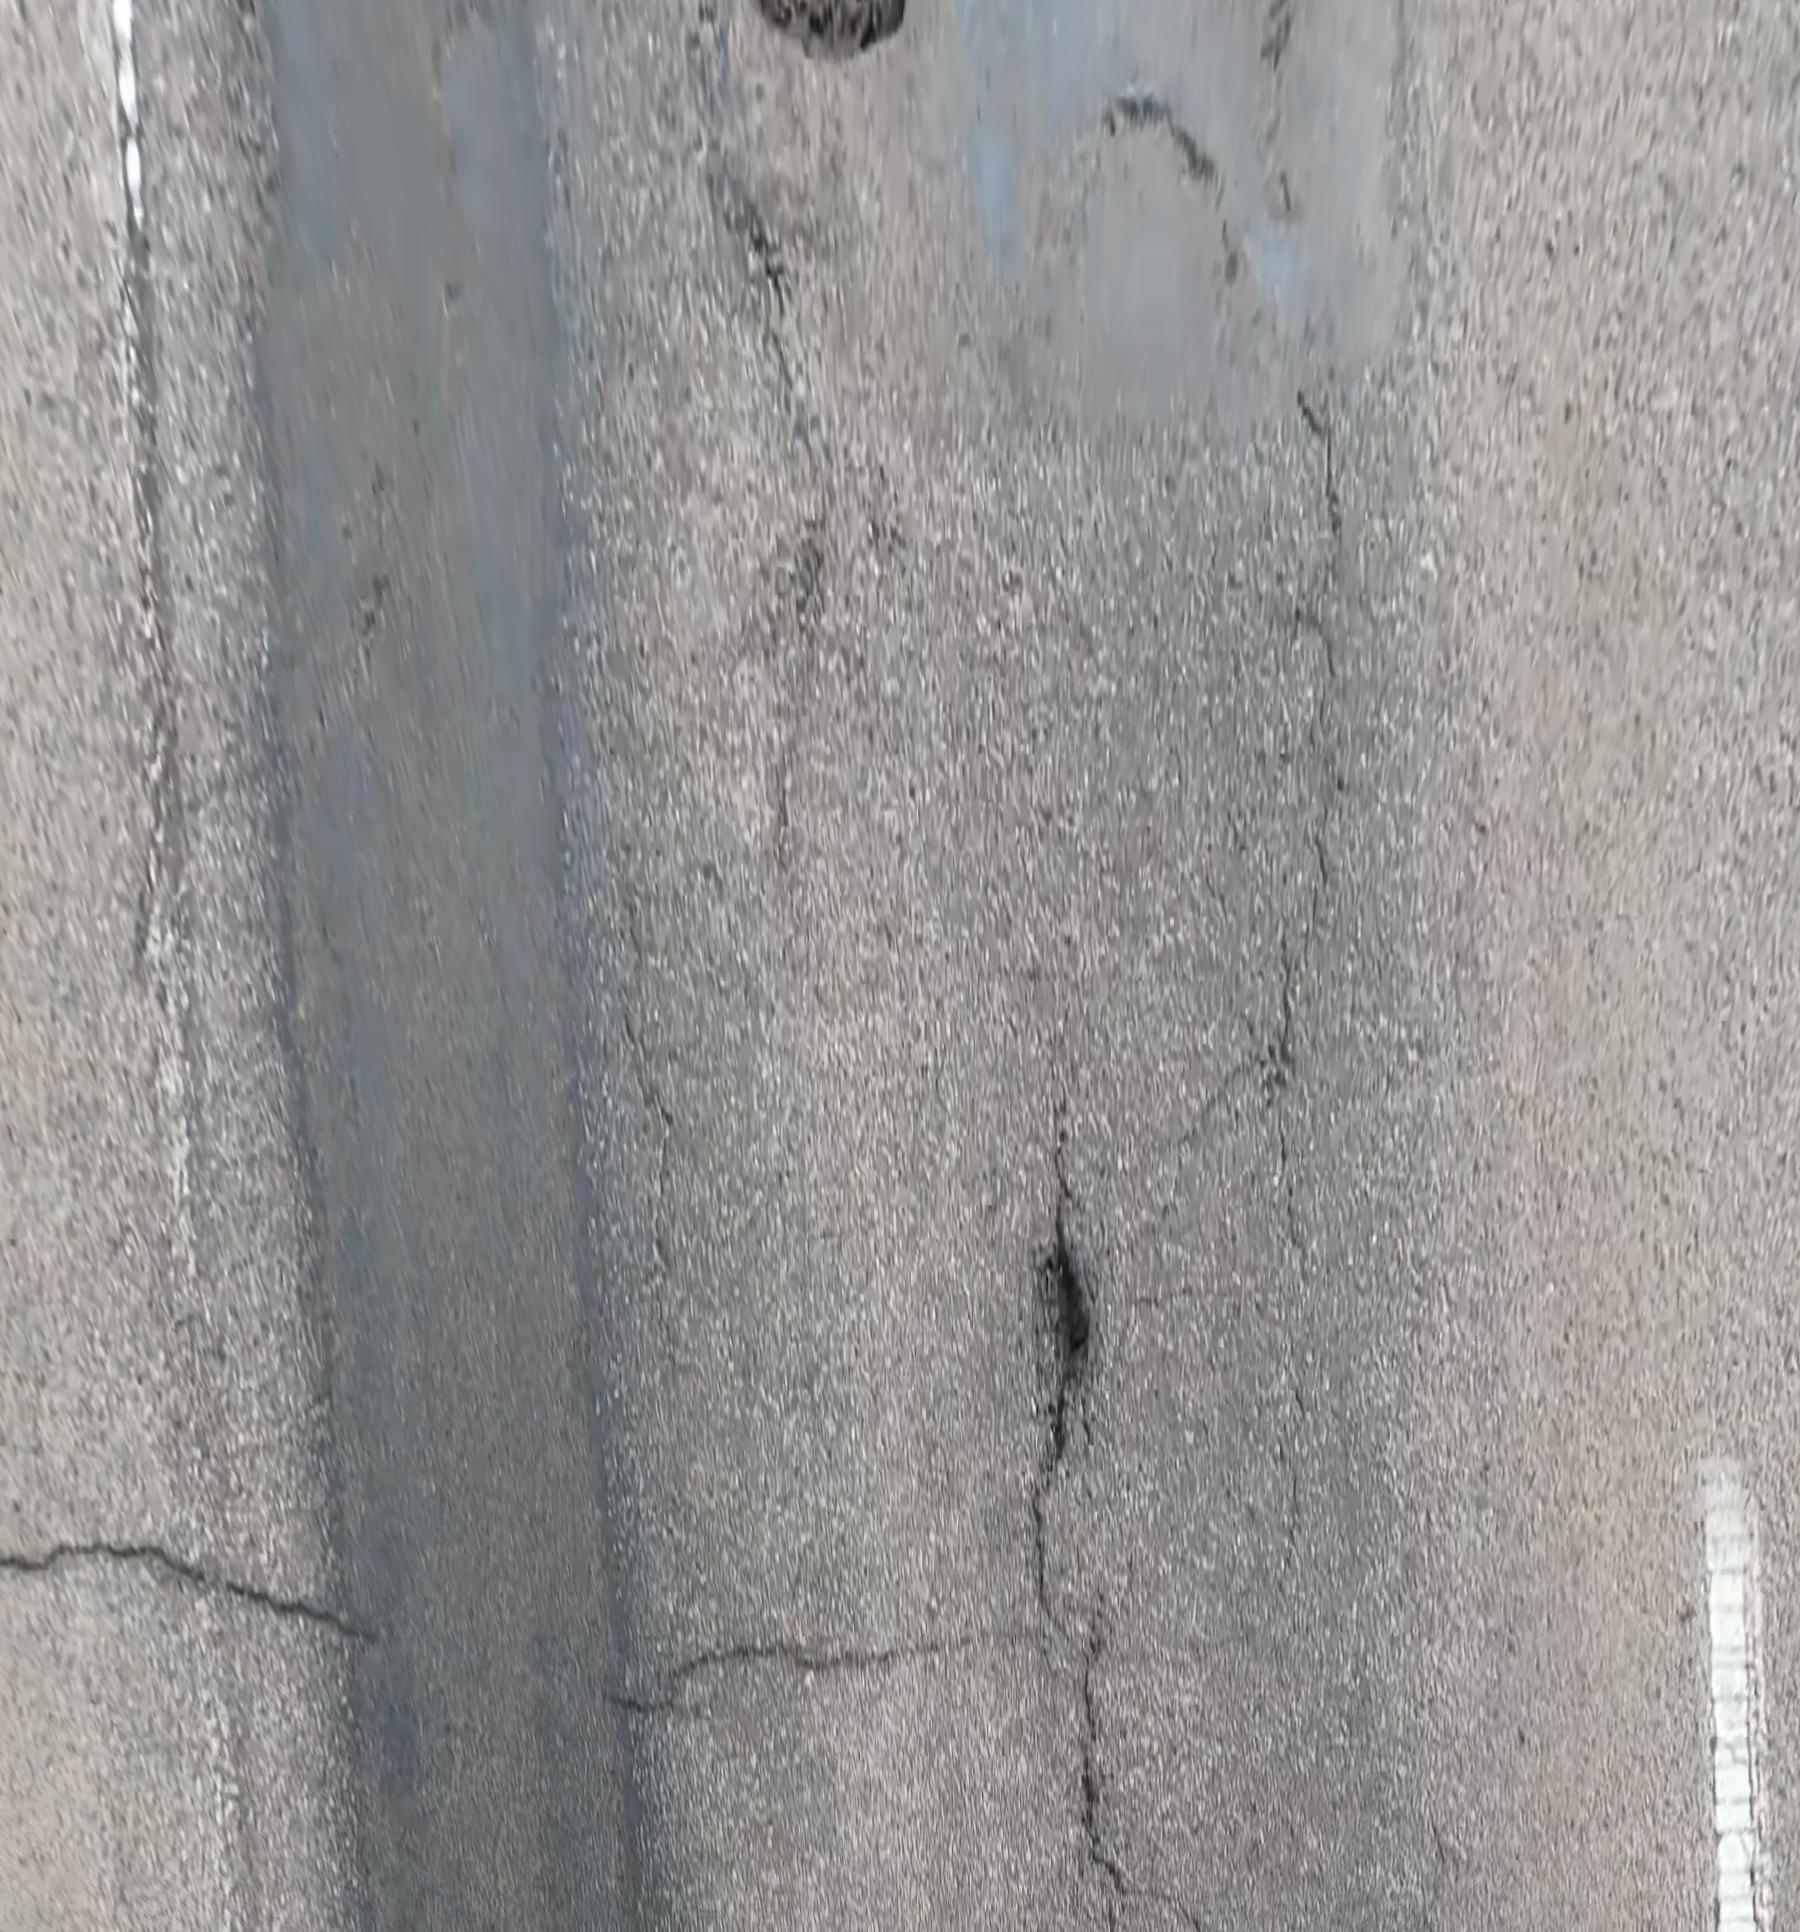pothole: (1034, 1206, 1101, 1475)
